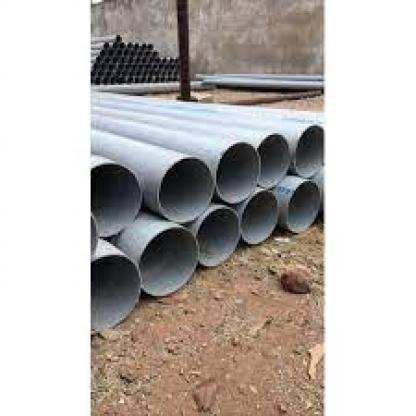PVC: (90, 90, 325, 174), (90, 104, 296, 189), (91, 116, 263, 204), (91, 123, 216, 223), (118, 208, 199, 298), (90, 33, 185, 90), (91, 154, 145, 241), (90, 240, 142, 330), (193, 204, 241, 267), (273, 175, 322, 234), (233, 191, 284, 244), (200, 72, 322, 89), (101, 79, 206, 94), (88, 211, 100, 250)
